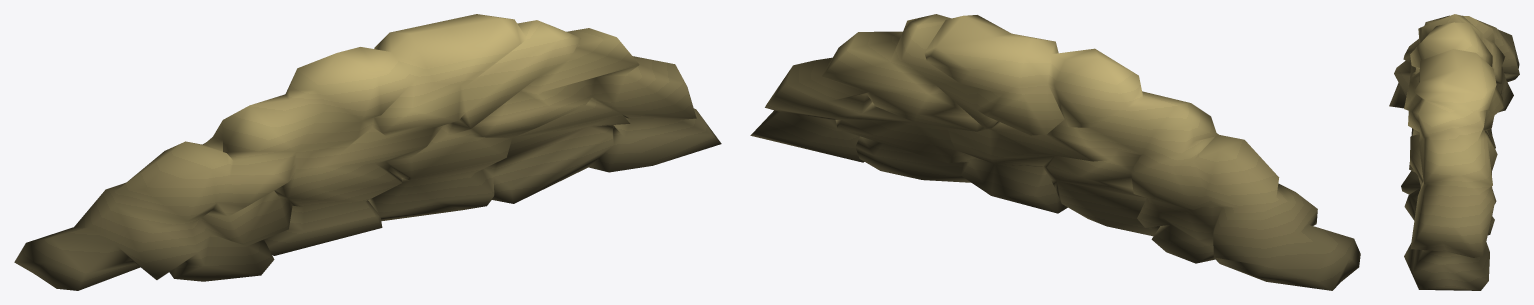
3 views of the same model, side by side, from view 1: azimuth 30°, elevation 25°; view 2: azimuth 150°, elevation 25°; view 3: azimuth 270°, elevation 25° (orthographic). The views are drawn at different scales.
Parts seen in each view (by area): view 1: SB6.col; view 2: SB6.col; view 3: SB6.col.
Part boxes in pixels (x1,y1,x2,y2): SB6.col: [14, 14, 721, 290]; SB6.col: [750, 14, 1360, 290]; SB6.col: [1389, 14, 1519, 290].
Bounding box in the file's own units: 4.41 × 1.07 × 0.9692.
1 material, 1 textured.
